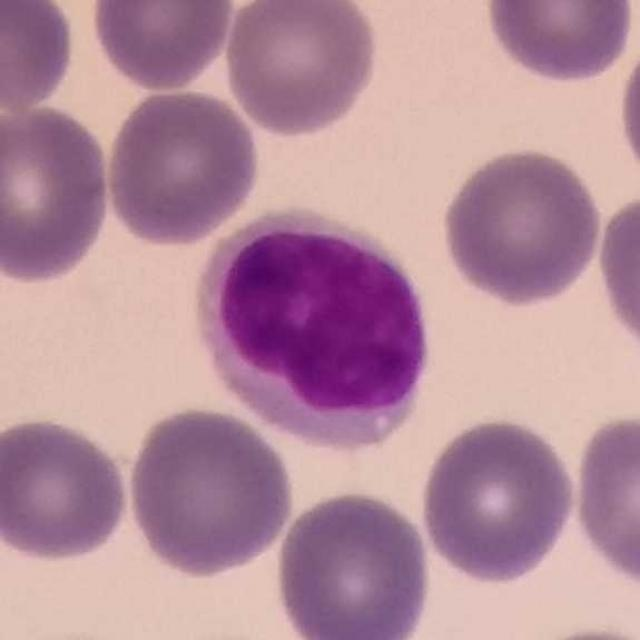Lymphocyte: (191, 202, 441, 449)
RBC: (123, 402, 297, 580), (415, 412, 581, 586), (438, 142, 606, 308), (100, 84, 264, 248), (270, 485, 437, 640), (220, 0, 382, 139), (0, 98, 116, 287), (0, 411, 135, 565), (86, 0, 238, 93), (480, 0, 638, 87), (567, 407, 640, 590), (0, 0, 79, 115), (592, 190, 640, 368), (614, 25, 640, 196)
